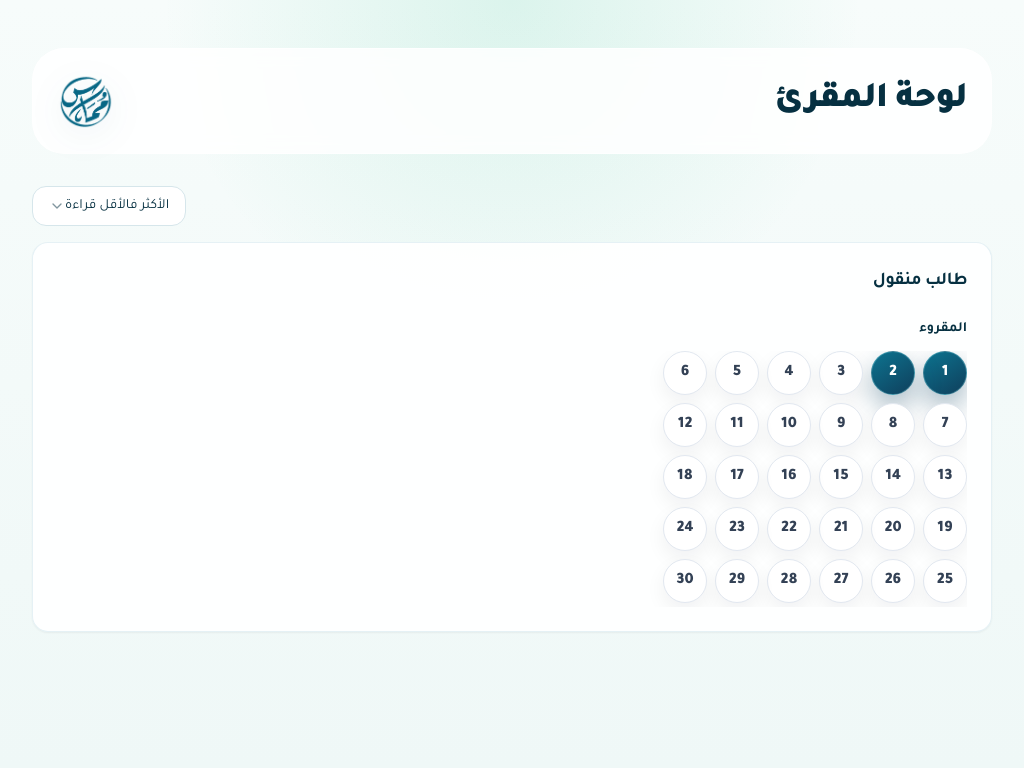
Test: reciter transfer ui › shows a transfer button in the reciter page and opens the transfer dialog
Click the button "طالب منقول" at [920, 281], box [873, 267, 967, 295]
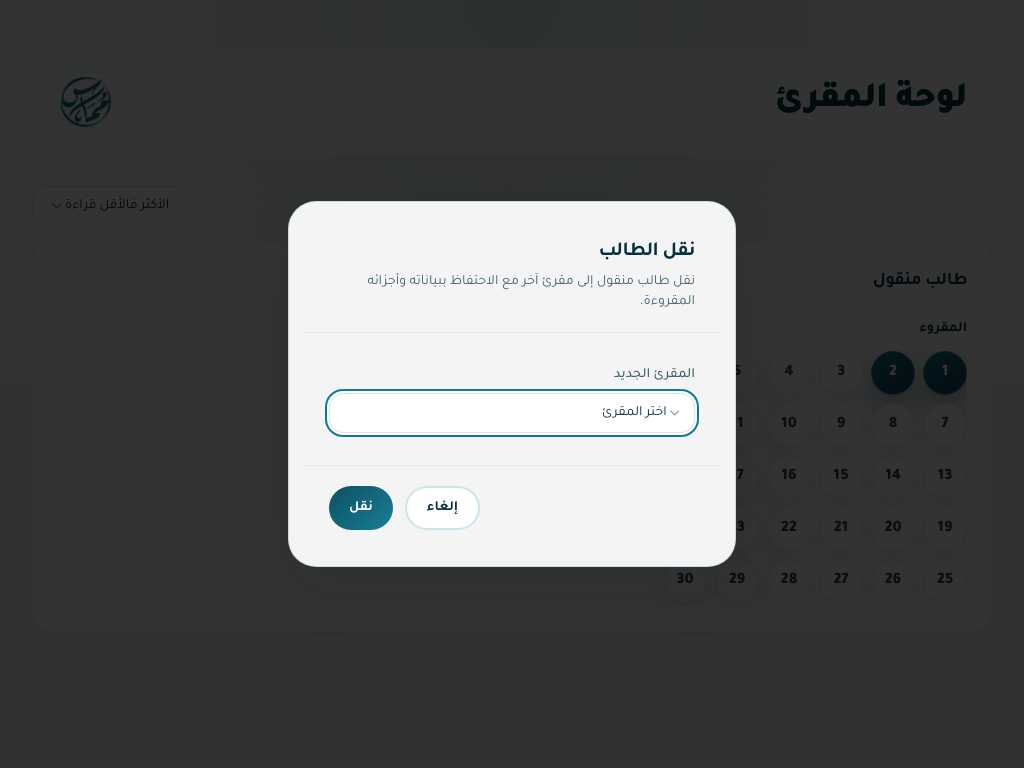
Check: the heading "نقل الطالب" is shown, box [598, 242, 695, 262]
